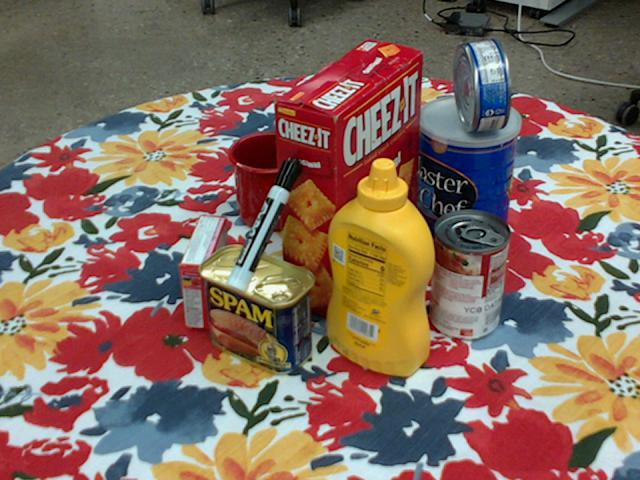cracker_box: (273, 39, 423, 320)
gelatin_box: (180, 214, 229, 329)
large_marker: (226, 156, 301, 291)
master_chef_can: (414, 95, 519, 260)
mug: (228, 131, 335, 232)
mustard_bottle: (327, 158, 435, 377)
potted_meat_can: (199, 244, 315, 374)
sugar_box: (275, 92, 435, 193)
tomato_soup_can: (429, 209, 510, 340)
tuna_fish_can: (452, 39, 511, 131)
